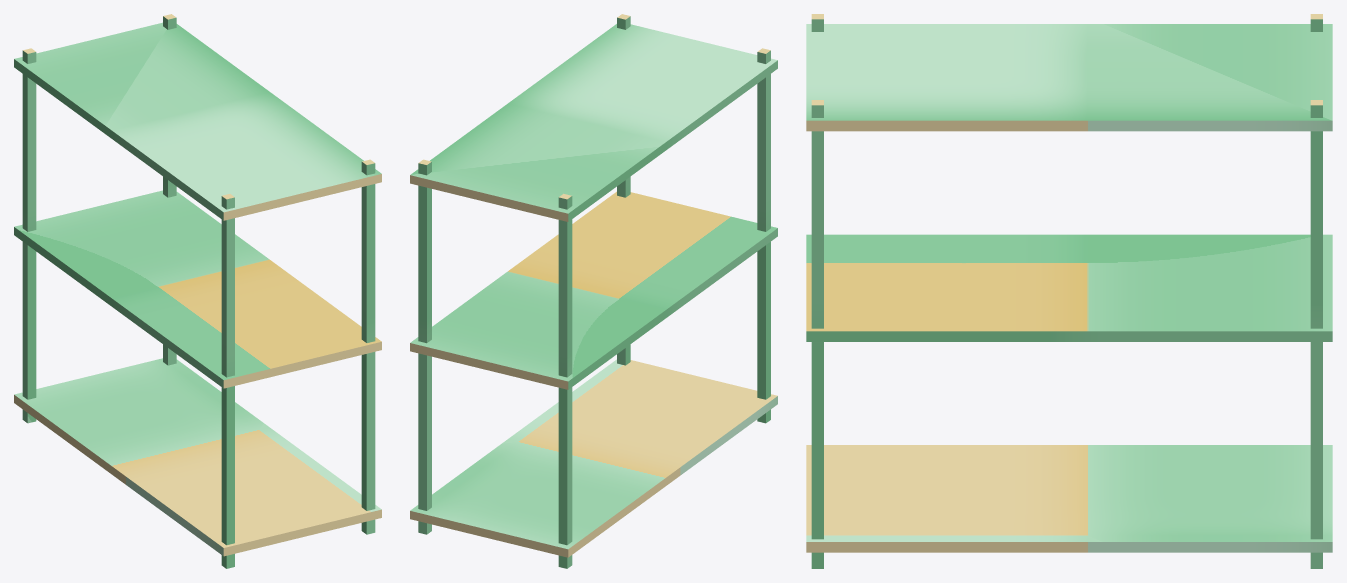
Rendered from shelf.fbx.
3 renders of one model, left to right at view 1: azimuth 30°, elevation 25°; view 2: azimuth 150°, elevation 25°; view 3: azimuth 270°, elevation 25°, orthographic. The views are drawn at different scales.
Parts seen in each view (by area): view 1: base; view 2: base; view 3: base.
Part boxes in pixels (x1,y1,x2,y2): base: (14,14,381,568); base: (410,14,777,568); base: (806,14,1332,568).
Size of the model in its own units: 1001 by 2235 by 2299.
